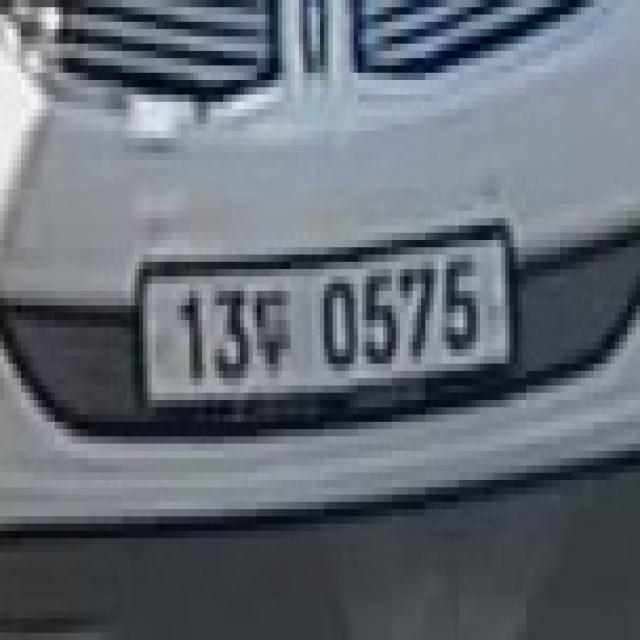0: (320, 269, 362, 378)
1: (172, 284, 210, 400)
3: (206, 276, 253, 400)
5: (442, 247, 484, 371), (358, 262, 400, 385)
7: (400, 240, 446, 378)
du: (253, 284, 303, 400)
license_plate: (131, 204, 522, 444)
